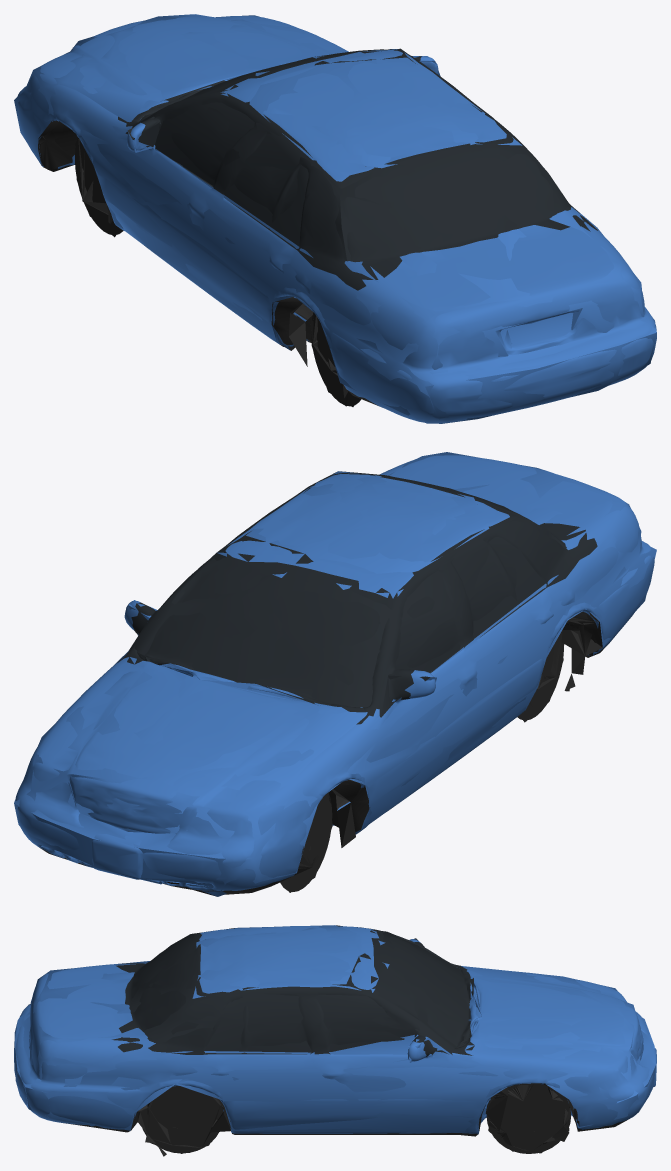
The model's file is ford-crown-victoria.glb.
3 views of the same model, one above another, from view 1: azimuth 30°, elevation 25°; view 2: azimuth 150°, elevation 25°; view 3: azimuth 270°, elevation 25° (orthographic). The views are drawn at different scales.
Parts seen in each view (by area): view 1: body, far; view 2: body, far; view 3: body, far.
Boxes of the visible parts, x1,y1,x2,y2 form: body: (17, 15, 656, 423); far: (14, 14, 656, 423); body: (15, 455, 654, 894); far: (14, 452, 656, 896); body: (14, 926, 656, 1156); far: (14, 925, 656, 1153).
Size of the model in its own units: 2.28 by 1.58 by 5.54.
